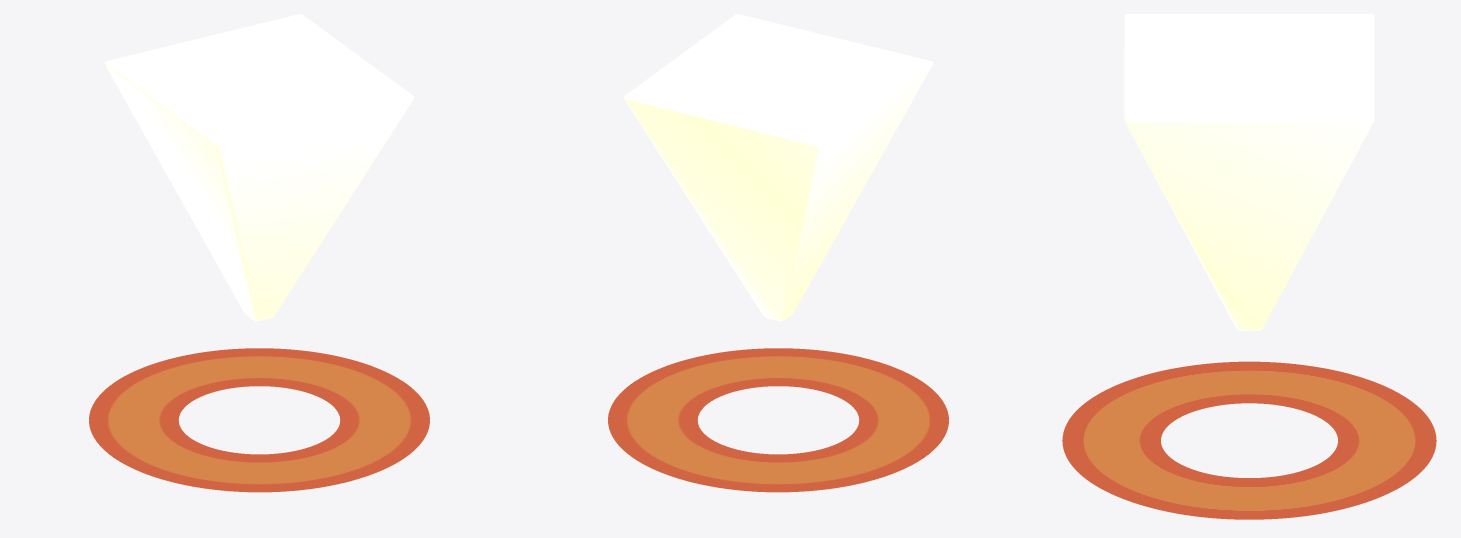
The model's file is Point1.fbx.
3 views of the same model, side by side, from view 1: azimuth 30°, elevation 25°; view 2: azimuth 150°, elevation 25°; view 3: azimuth 270°, elevation 25° (orthographic). The views are drawn at different scales.
Visible parts, largest first — view 1: Cone, Plane; view 2: Cone, Plane; view 3: Cone, Plane.
Boxes of the visible parts, x1,y1,x2,y2 form: Cone: (104,14,414,321); Plane: (89,348,429,492); Cone: (623,14,933,321); Plane: (608,348,948,492); Cone: (1124,14,1374,330); Plane: (1062,361,1436,519).
Bounding box in the file's own units: 200 × 210 × 200.
2 materials, 1 textured.
